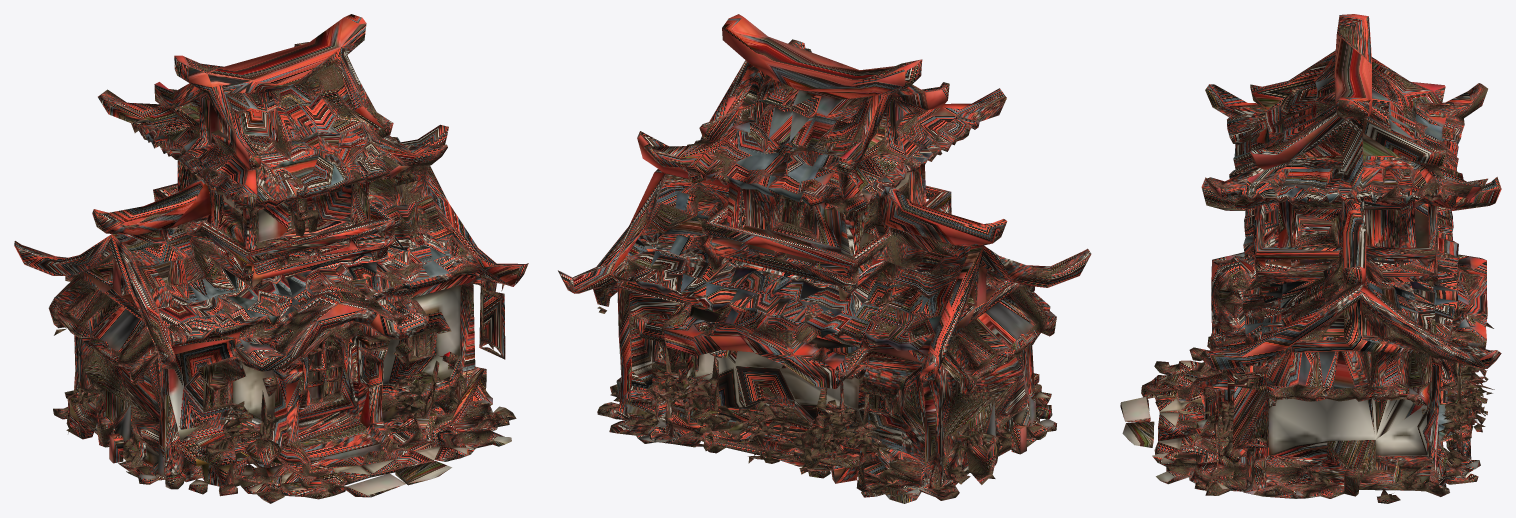
File: bq_teahouse.lod.glb
3 views of the same model, side by side, from view 1: azimuth 30°, elevation 25°; view 2: azimuth 150°, elevation 25°; view 3: azimuth 270°, elevation 25° (orthographic). The views are drawn at different scales.
Size of the model in its own units: 1.89 by 1.77 by 1.71.
1 material, 1 textured.
